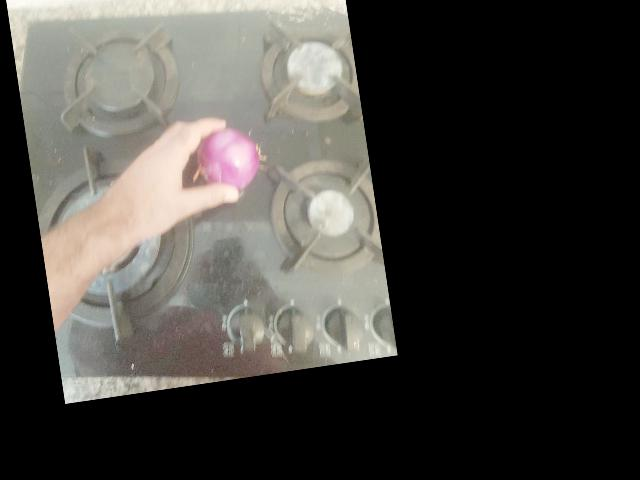onion: (212, 31, 289, 106)
